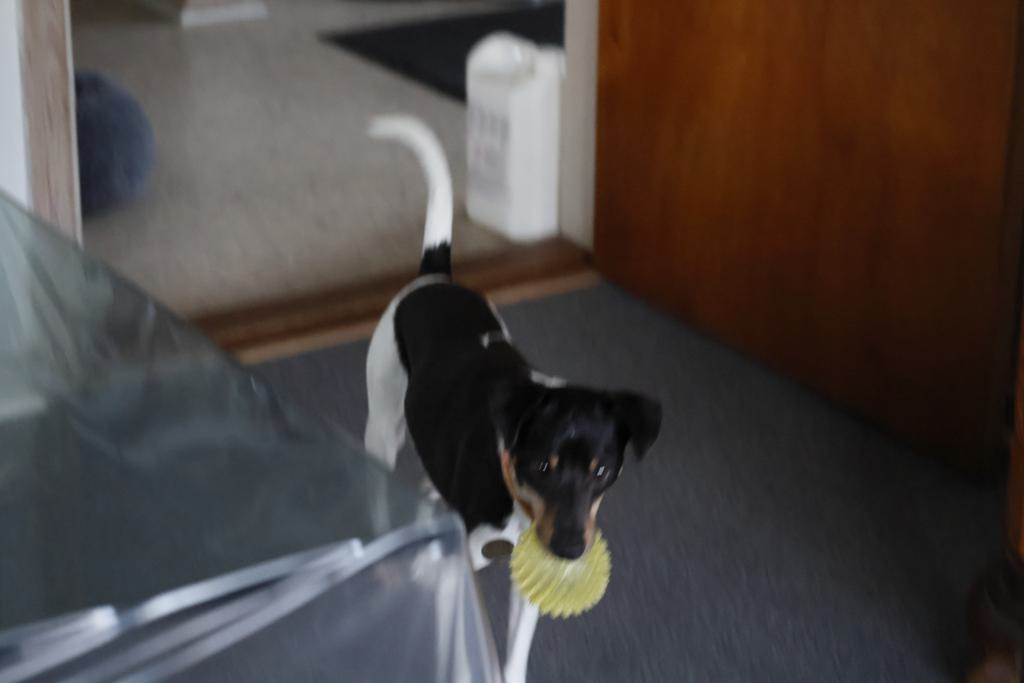Dog: (349, 102, 674, 683)
